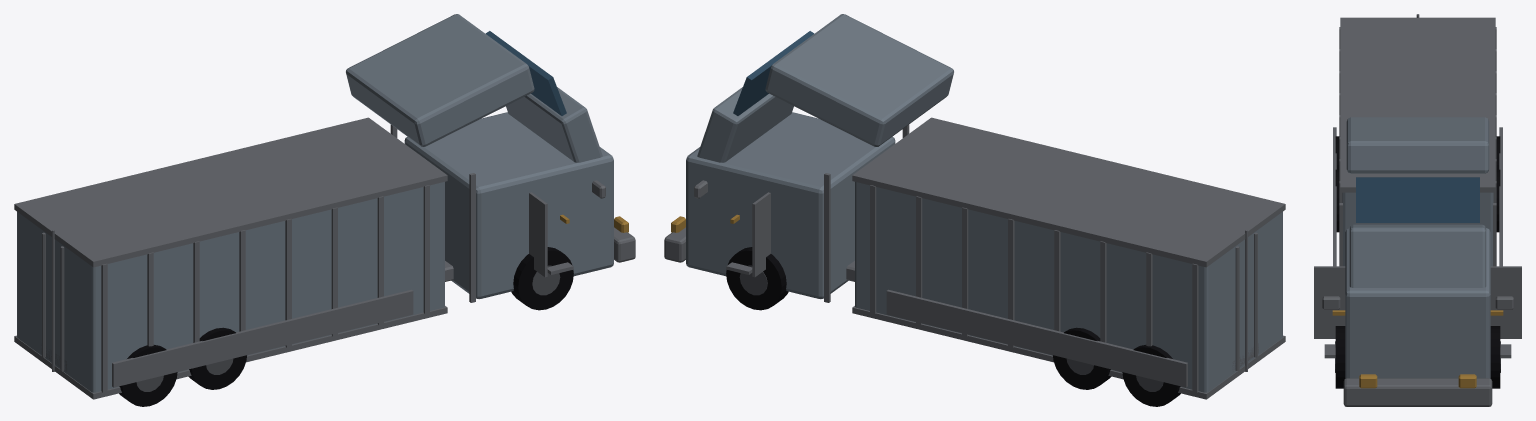
Rendered from bl-truck.glb.
3 views of the same model, side by side, from view 1: azimuth 30°, elevation 25°; view 2: azimuth 150°, elevation 25°; view 3: azimuth 270°, elevation 25° (orthographic).
Visible parts, largest first — view 1: truck; view 2: truck; view 3: truck.
Boxes of the visible parts, x1,y1,x2,y2 form: truck: (14, 14, 635, 406); truck: (664, 14, 1285, 406); truck: (1314, 14, 1521, 406).
Size of the model in its own units: 10.24 by 4.33 by 3.43.
